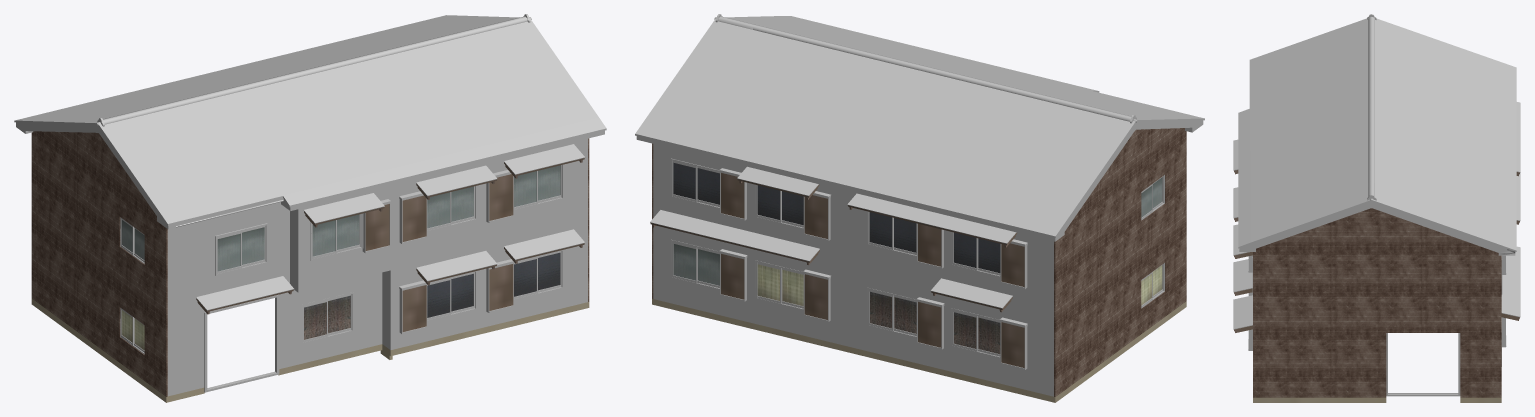
The model's file is JpHouse_04ak.fbx.
3 views of the same model, side by side, from view 1: azimuth 30°, elevation 25°; view 2: azimuth 150°, elevation 25°; view 3: azimuth 270°, elevation 25° (orthographic). The views are drawn at different scales.
Visible parts, largest first — view 1: JpHouse_04ak; view 2: JpHouse_04ak; view 3: JpHouse_04ak.
Boxes of the visible parts, x1,y1,x2,y2 form: JpHouse_04ak: (14,14,606,402); JpHouse_04ak: (635,14,1204,402); JpHouse_04ak: (1233,14,1520,402).
Size of the model in its own units: 15.07 by 8.19 by 9.94.
